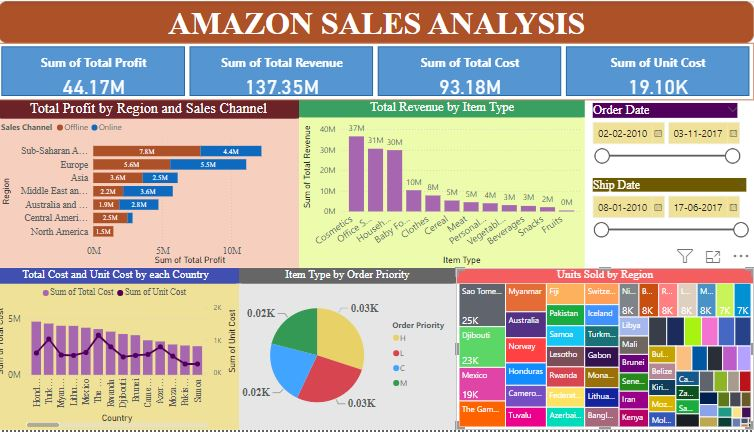

Layout of this report page (visuals, bound fields, positions):
{"tool":"powerbi","page":{"name":"Page 1","canvas":[1280,720],"ordinal":0},"visuals":[{"type":"textbox","title":"AMAZON SALES ANALYSIS","box":[10.1,0,1269.9,70.6],"z":0},{"type":"barChart","title":" Total Profit by Region and Sales Channel","fields":{"Category":["Amazon Sales data.Region"],"Y":["Sum(Amazon Sales data.Total Profit)"],"Series":["Amazon Sales data.Sales Channel"]},"box":[10.1,166.3,505.6,282.2],"z":1000},{"type":"columnChart","title":" Total Revenue by Item Type","fields":{"Y":["Sum(Amazon Sales data.Total Revenue)"],"Category":["Amazon Sales data.Item Type"]},"box":[515.7,166.3,480.4,282.2],"z":2000},{"type":"lineStackedColumnComboChart","title":" Total Cost and Unit Cost by each Country","fields":{"Category":["Amazon Sales data.Country"],"Y":["Sum(Amazon Sales data.Total Cost)"],"Y2":["Sum(Amazon Sales data.Unit Cost)"]},"box":[0,448.5,414.9,272.1],"z":3000},{"type":"pieChart","title":"Item Type by Order Priority","fields":{"Category":["Amazon Sales data.Order Priority"],"Y":["CountNonNull(Amazon Sales data.Item Type)"]},"box":[414.9,448.5,364.5,272.1],"z":4000},{"type":"slicer","fields":{"Values":["Amazon Sales data.Order Date"]},"box":[996.1,166.3,268.8,156.2],"z":5000},{"type":"treemap","title":" Units Sold by Region","fields":{"Values":["Sum(Amazon Sales data.Units Sold)"],"Group":["Amazon Sales data.Country"]},"box":[779.4,448.5,500.6,272.1],"z":6000},{"type":"slicer","fields":{"Values":["Amazon Sales data.Ship Date"]},"box":[996.1,292.3,283.9,156.2],"z":7000},{"type":"cardVisual","fields":{"Data":["Sum(Amazon Sales data.Total Profit)","Sum(Amazon Sales data.Total Revenue)","Sum(Amazon Sales data.Total Cost)","Sum(Amazon Sales data.Unit Cost)"]},"box":[10.1,70.6,1269.9,95.7],"z":9000}]}

Visuals, with their boxes in screenshot pixels (x1, y1, x2, y2):
"AMAZON SALES ANALYSIS" textbox: <bbox>10, 0, 748, 41</bbox>
" Total Profit by Region and Sales Channel" barChart: <bbox>10, 97, 304, 261</bbox>
" Total Revenue by Item Type" columnChart: <bbox>304, 97, 583, 261</bbox>
" Total Cost and Unit Cost by each Country" lineStackedColumnComboChart: <bbox>4, 261, 245, 419</bbox>
"Item Type by Order Priority" pieChart: <bbox>245, 261, 457, 419</bbox>
slicer - Amazon Sales data.Order Date: <bbox>583, 97, 739, 187</bbox>
" Units Sold by Region" treemap: <bbox>457, 261, 748, 419</bbox>
slicer - Amazon Sales data.Ship Date: <bbox>583, 170, 748, 261</bbox>
cardVisual - Sum(Amazon Sales data.Total Profit) x Sum(Amazon Sales data.Total Revenue): <bbox>10, 41, 748, 97</bbox>
